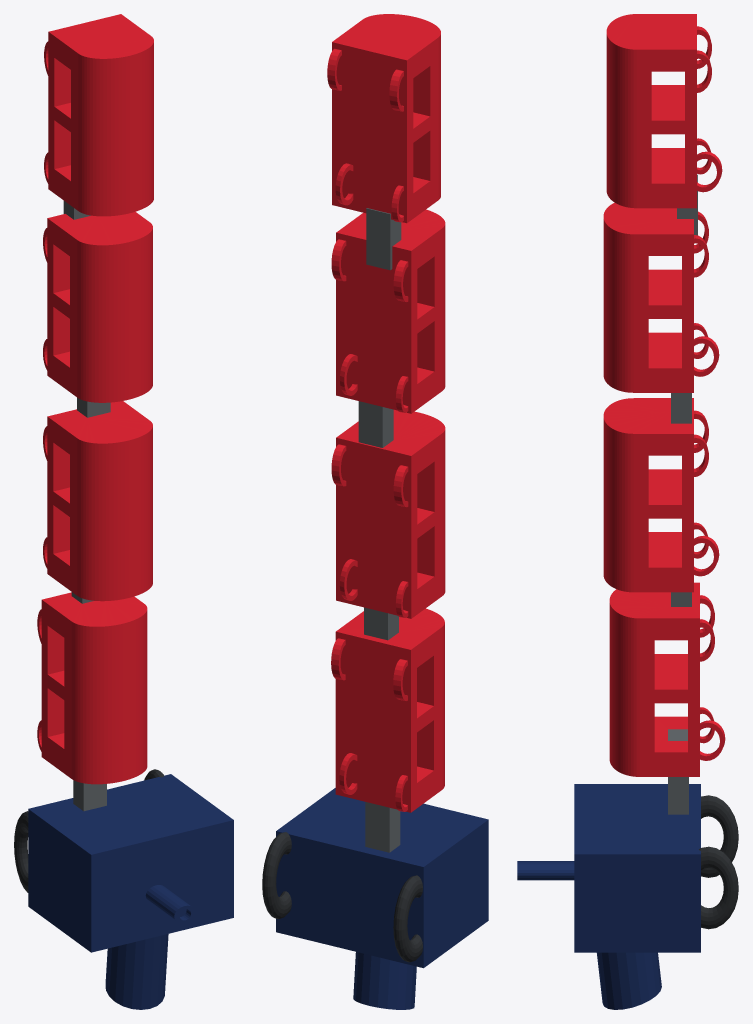
Rendered from tinker.obj.
3 renders of one model, left to right at view 1: azimuth 30°, elevation 25°; view 2: azimuth 150°, elevation 25°; view 3: azimuth 270°, elevation 25°, orthographic. The views are drawn at different scales.
Visible parts, largest first — view 1: group_0_15277357, group_0_1650274, group_0_6383466, group_0_2829873; view 2: group_0_15277357, group_0_1650274, group_0_6383466, group_0_2829873; view 3: group_0_15277357, group_0_1650274, group_0_2829873, group_0_6383466.
Boxes of the visible parts, x1,y1,x2,y2 form: group_0_15277357: [37, 14, 153, 784]; group_0_1650274: [28, 774, 233, 1009]; group_0_6383466: [63, 201, 110, 811]; group_0_2829873: [14, 769, 164, 892]; group_0_15277357: [327, 14, 445, 812]; group_0_1650274: [276, 788, 488, 1009]; group_0_6383466: [358, 208, 401, 852]; group_0_2829873: [262, 832, 422, 962]; group_0_15277357: [603, 14, 725, 776]; group_0_1650274: [517, 784, 700, 1009]; group_0_2829873: [699, 795, 738, 929]; group_0_6383466: [668, 174, 697, 814].
Size of the model in its own units: 55 by 352 by 73.49.
